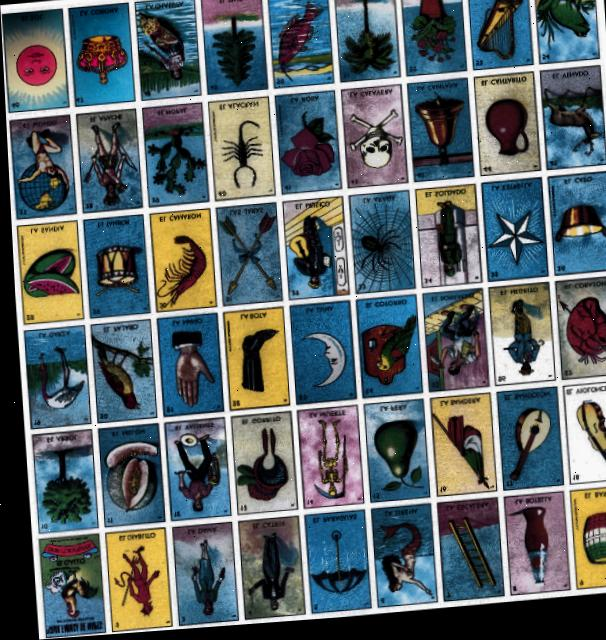El Alacran: (208, 100, 273, 203)
El Apache: (75, 111, 140, 214)
El Arbol: (27, 431, 92, 533)
El Arpa: (467, 0, 532, 77)
El Bandolon: (493, 396, 558, 498)
El Barril: (565, 495, 606, 597)
El Borracho: (418, 296, 484, 398)
El Camaron: (148, 212, 212, 313)
El Cantarito: (474, 80, 538, 183)
El Catrin: (232, 521, 297, 623)
El Cazo: (545, 181, 606, 284)
El Corazon: (552, 287, 606, 388)
El Cotorro: (354, 301, 419, 404)
El Diablito: (100, 529, 165, 633)
El Garza: (20, 327, 87, 430)
El Gorrito: (226, 416, 292, 518)
El Melon: (94, 426, 159, 528)
El Mundo: (8, 117, 73, 218)
El Musico: (281, 202, 345, 303)
El Negrito: (486, 290, 551, 392)
El Nopal: (142, 107, 207, 209)
El Pajaro: (87, 322, 152, 423)
El Paraguas: (299, 515, 364, 617)
El Pescado: (268, 0, 332, 91)
El Pino: (201, 0, 266, 98)
El Sol: (3, 11, 67, 112)
El Soldado: (412, 191, 477, 293)
El Tambor: (80, 217, 146, 318)
El Valiente: (160, 421, 225, 522)
El Venado: (539, 75, 604, 178)
El Violoncello: (559, 390, 606, 492)
Gallo: (32, 535, 98, 637)
La Arana: (346, 197, 411, 298)
La Bandera: (427, 400, 492, 502)
La Bota: (220, 311, 285, 413)
La Botella: (499, 500, 564, 602)
La Calavera: (341, 91, 405, 192)
La Campana: (407, 85, 471, 188)
La Chalupa: (136, 1, 200, 103)
La Corona: (69, 5, 133, 107)
La Dama: (167, 527, 232, 628)
La Escalera: (432, 505, 496, 607)
La Estrella: (479, 187, 544, 288)
La Luna: (287, 306, 351, 409)
La Maceta: (400, 0, 465, 82)
La Mano: (154, 317, 219, 418)
La Muerte: (293, 411, 358, 513)
La Palma: (333, 0, 398, 88)
La Pera: (360, 405, 425, 508)
La Rana: (535, 0, 599, 71)
La Rosa: (274, 96, 340, 199)
La Sandia: (14, 222, 78, 325)
La Sirena: (365, 511, 430, 614)
Las Jaras: (214, 207, 279, 308)
